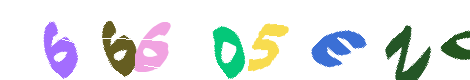0: (382, 0, 462, 80)
5: (193, 0, 273, 80)
6: (36, 0, 116, 80), (99, 0, 179, 80), (129, 0, 209, 80)
E: (224, 0, 304, 80)
O: (189, 0, 269, 80)
Z: (296, 0, 376, 80)
